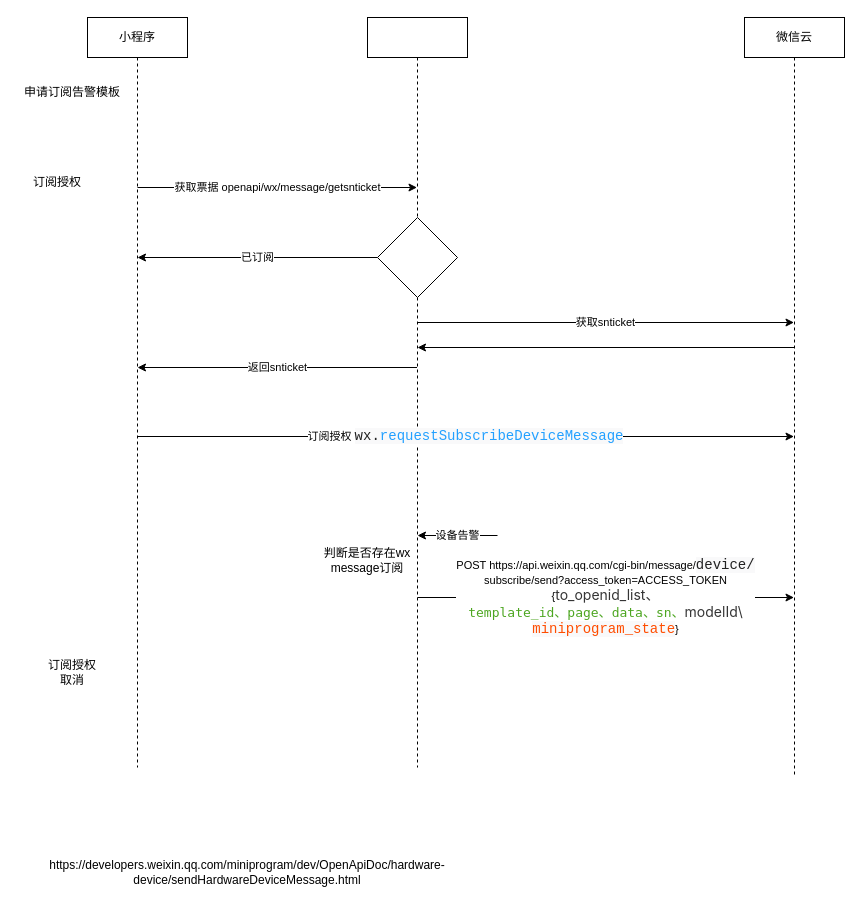
Some shapes in this 862 by 905 pixel diagram are drawn without their labels. Each missing label, with the box of its shape:
EZCloud: (366, 16, 468, 768)
判断是否已订阅: (376, 216, 458, 298)
